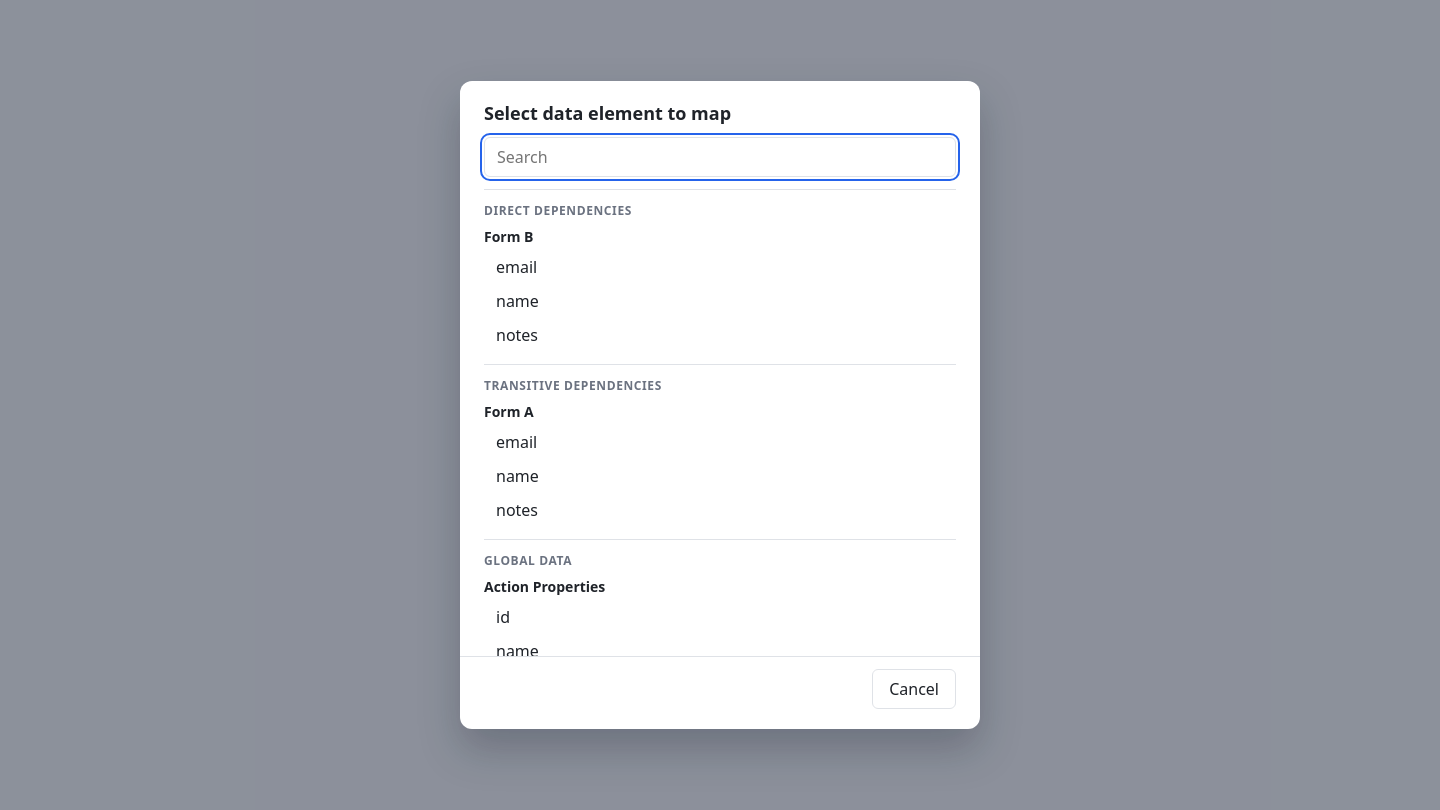
Test: DataSourceModal › filters the options as the user types
Type "form a" into the search field at (720, 157), box [484, 137, 956, 177]
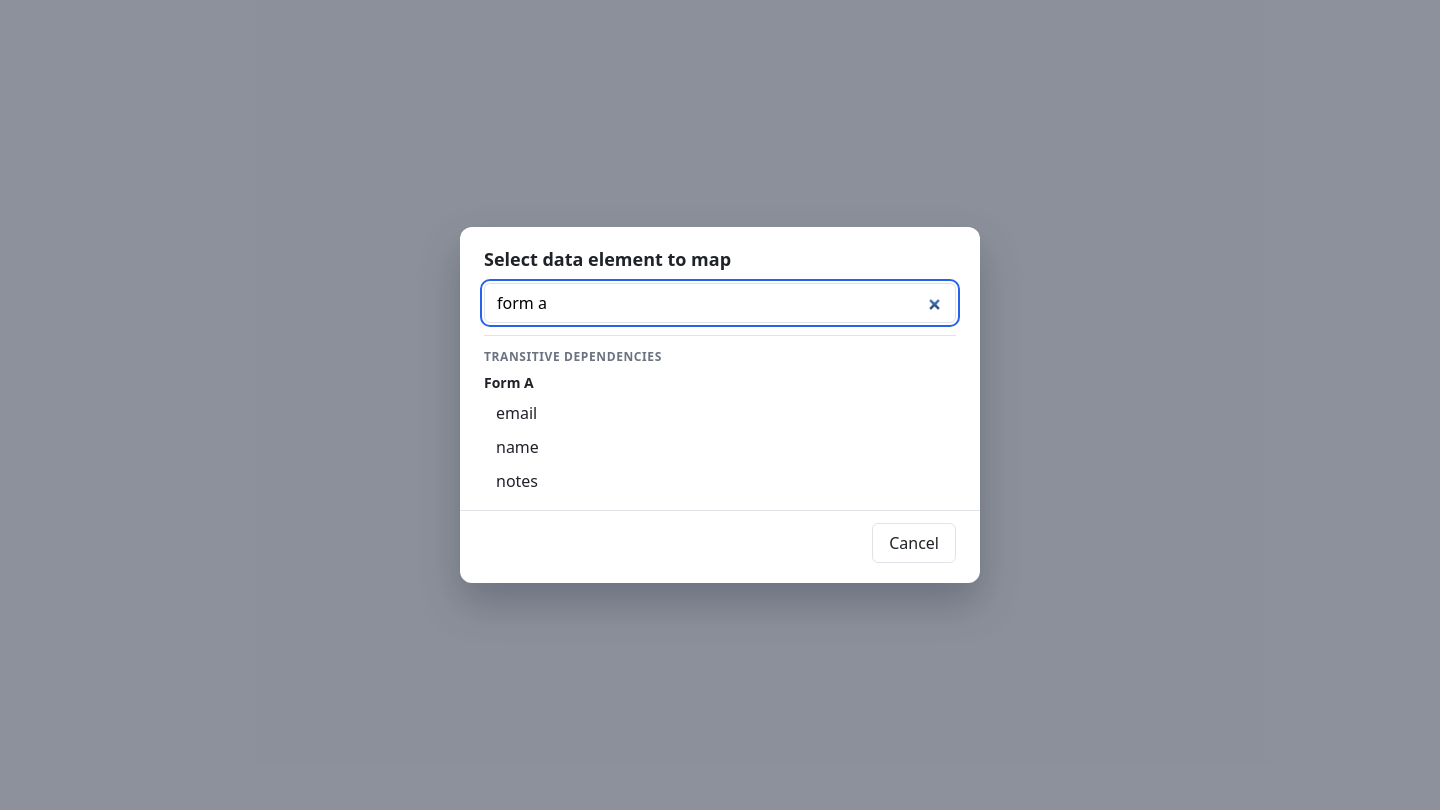
Check: the heading "Direct dependencies" is gone
Check: the heading "Global data" is gone
